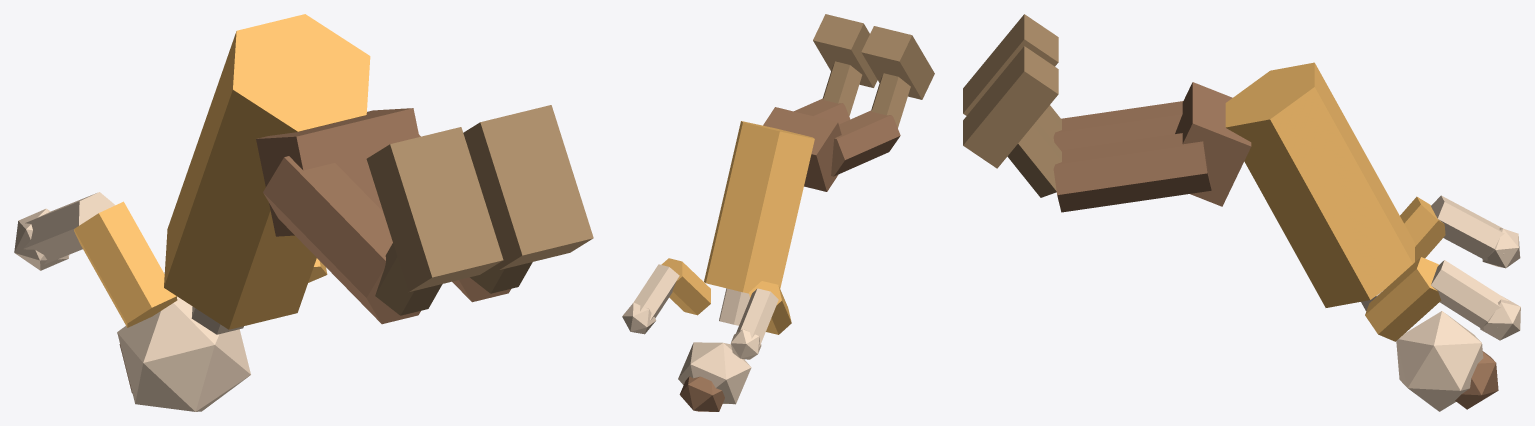
The model's file is pose_dodge_roll_22.glb.
3 renders of one model, left to right at view 1: azimuth 30°, elevation 25°; view 2: azimuth 150°, elevation 25°; view 3: azimuth 270°, elevation 25°, orthographic. The views are drawn at different scales.
Visible parts, largest first — view 1: pose; view 2: pose; view 3: pose.
Part boxes in pixels (box(x1,y1,x2,y2)): pose: box(14, 14, 593, 411); pose: box(622, 14, 934, 411); pose: box(963, 14, 1520, 411).
Bounding box in the file's own units: 0.4876 × 0.9389 × 1.31.
